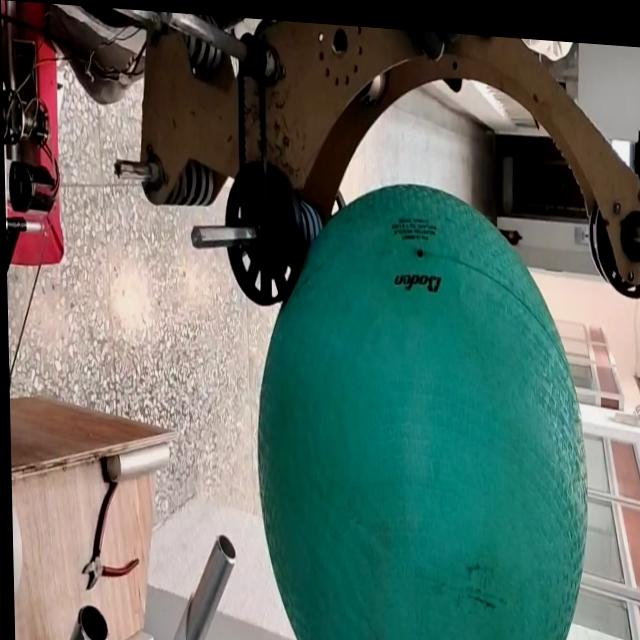ALGAE: (246, 164, 590, 640)
